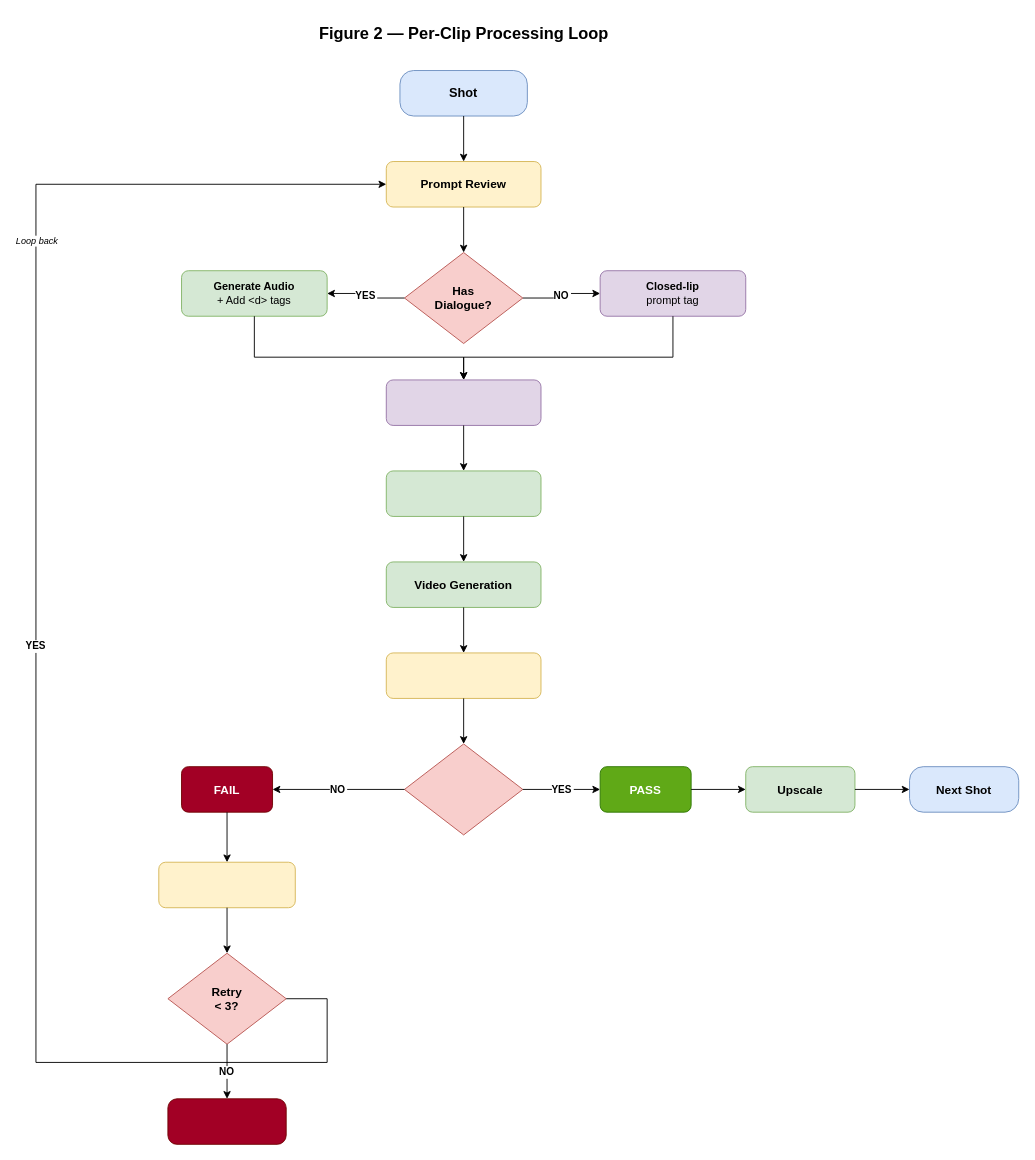
Image size: 1035x1160. Some labels were removed from this diagram. The shapes that lost their labels are listed below. From the top down, each one's centre as x and y in pixels, then its label:
the point at 463,402: Swap Models (LM1 → LM2)
the point at 463,493: Image Generation
the point at 463,675: QA Analysis
the point at 463,789: Score ≥ 0.85?
the point at 226,884: Corrections
the point at 226,1121: Escalate
